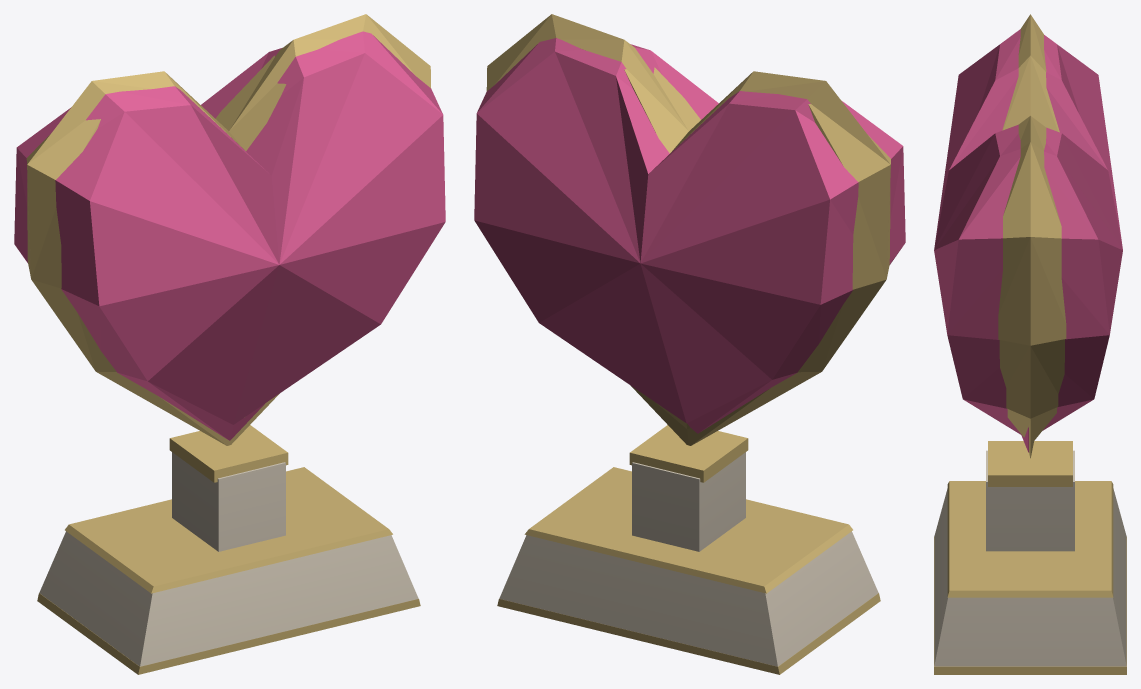
The model's file is heart-sculpt.glb.
3 renders of one model, left to right at view 1: azimuth 30°, elevation 25°; view 2: azimuth 150°, elevation 25°; view 3: azimuth 270°, elevation 25°, orthographic. The views are drawn at different scales.
Visible parts, largest first — view 1: heart_mesh, root_mesh; view 2: heart_mesh, root_mesh; view 3: heart_mesh, root_mesh.
Part boxes in pixels (x1,y1,x2,y2): heart_mesh: (14, 14, 445, 445); root_mesh: (37, 425, 420, 674); heart_mesh: (474, 14, 905, 445); root_mesh: (497, 425, 880, 674); heart_mesh: (934, 14, 1122, 458); root_mesh: (934, 441, 1126, 674).
Size of the model in its own units: 1.2 by 1.58 by 0.52.
